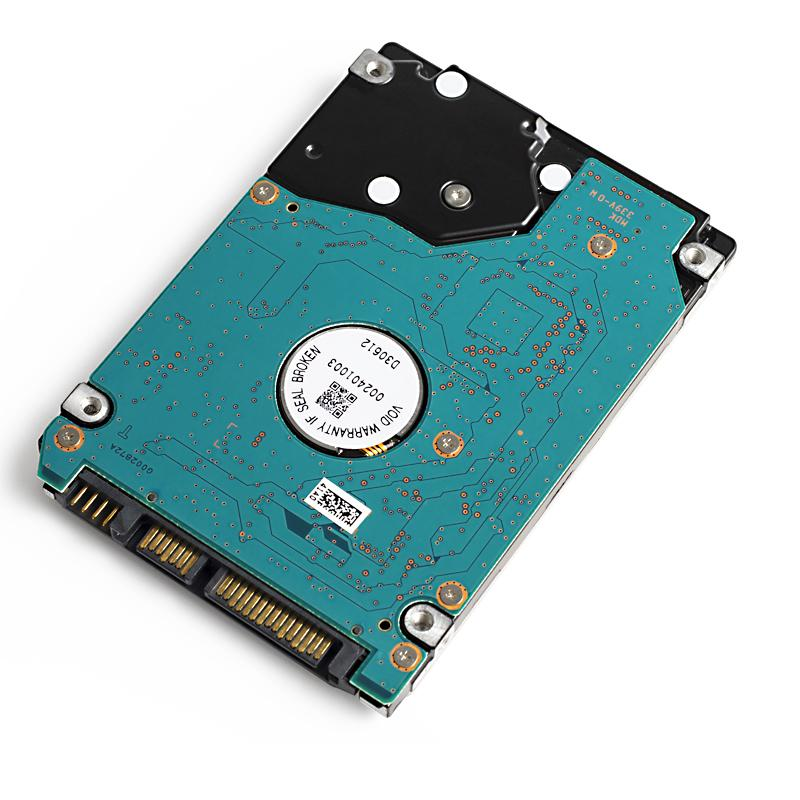internal HDD: (34, 43, 736, 718)
